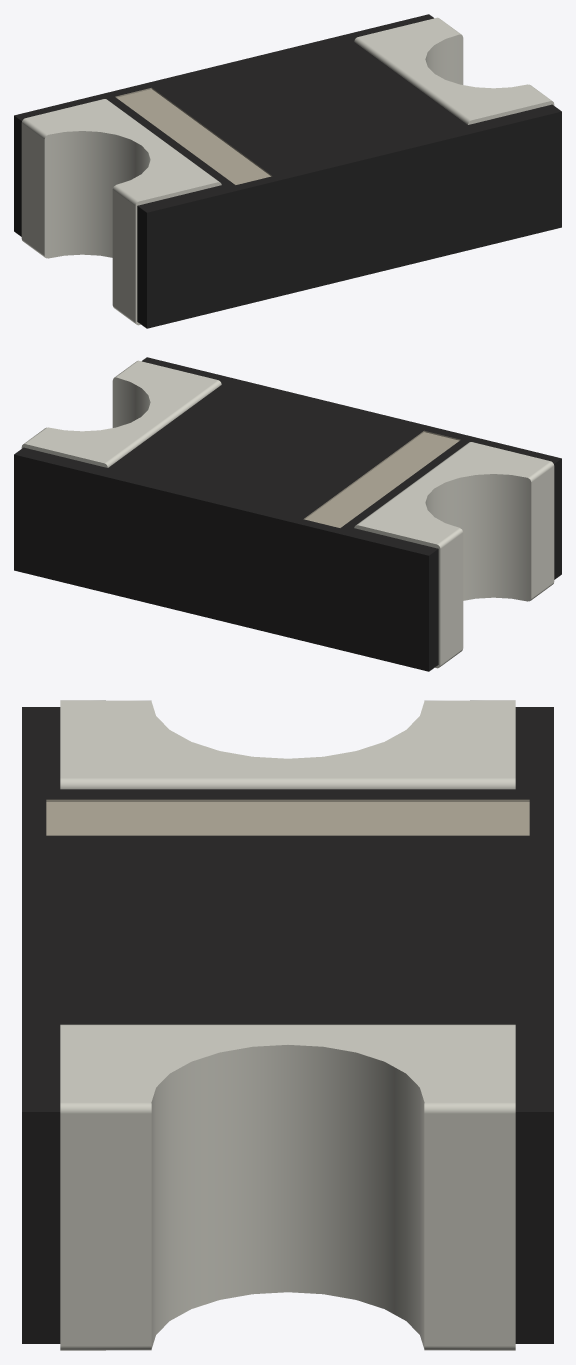
3 views of the same model, one above another, from view 1: azimuth 30°, elevation 25°; view 2: azimuth 150°, elevation 25°; view 3: azimuth 270°, elevation 25° (orthographic). The views are drawn at different scales.
Parts seen in each view (by area): view 1: =>[0:1:1:3]; view 2: =>[0:1:1:3]; view 3: =>[0:1:1:3].
Part boxes in pixels (x1,y1,x2,y2): =>[0:1:1:3]: [14, 14, 561, 328]; =>[0:1:1:3]: [14, 357, 561, 671]; =>[0:1:1:3]: [22, 700, 553, 1350].
Bounding box in the file's own units: 0.0034 × 0.00096 × 0.00187.
